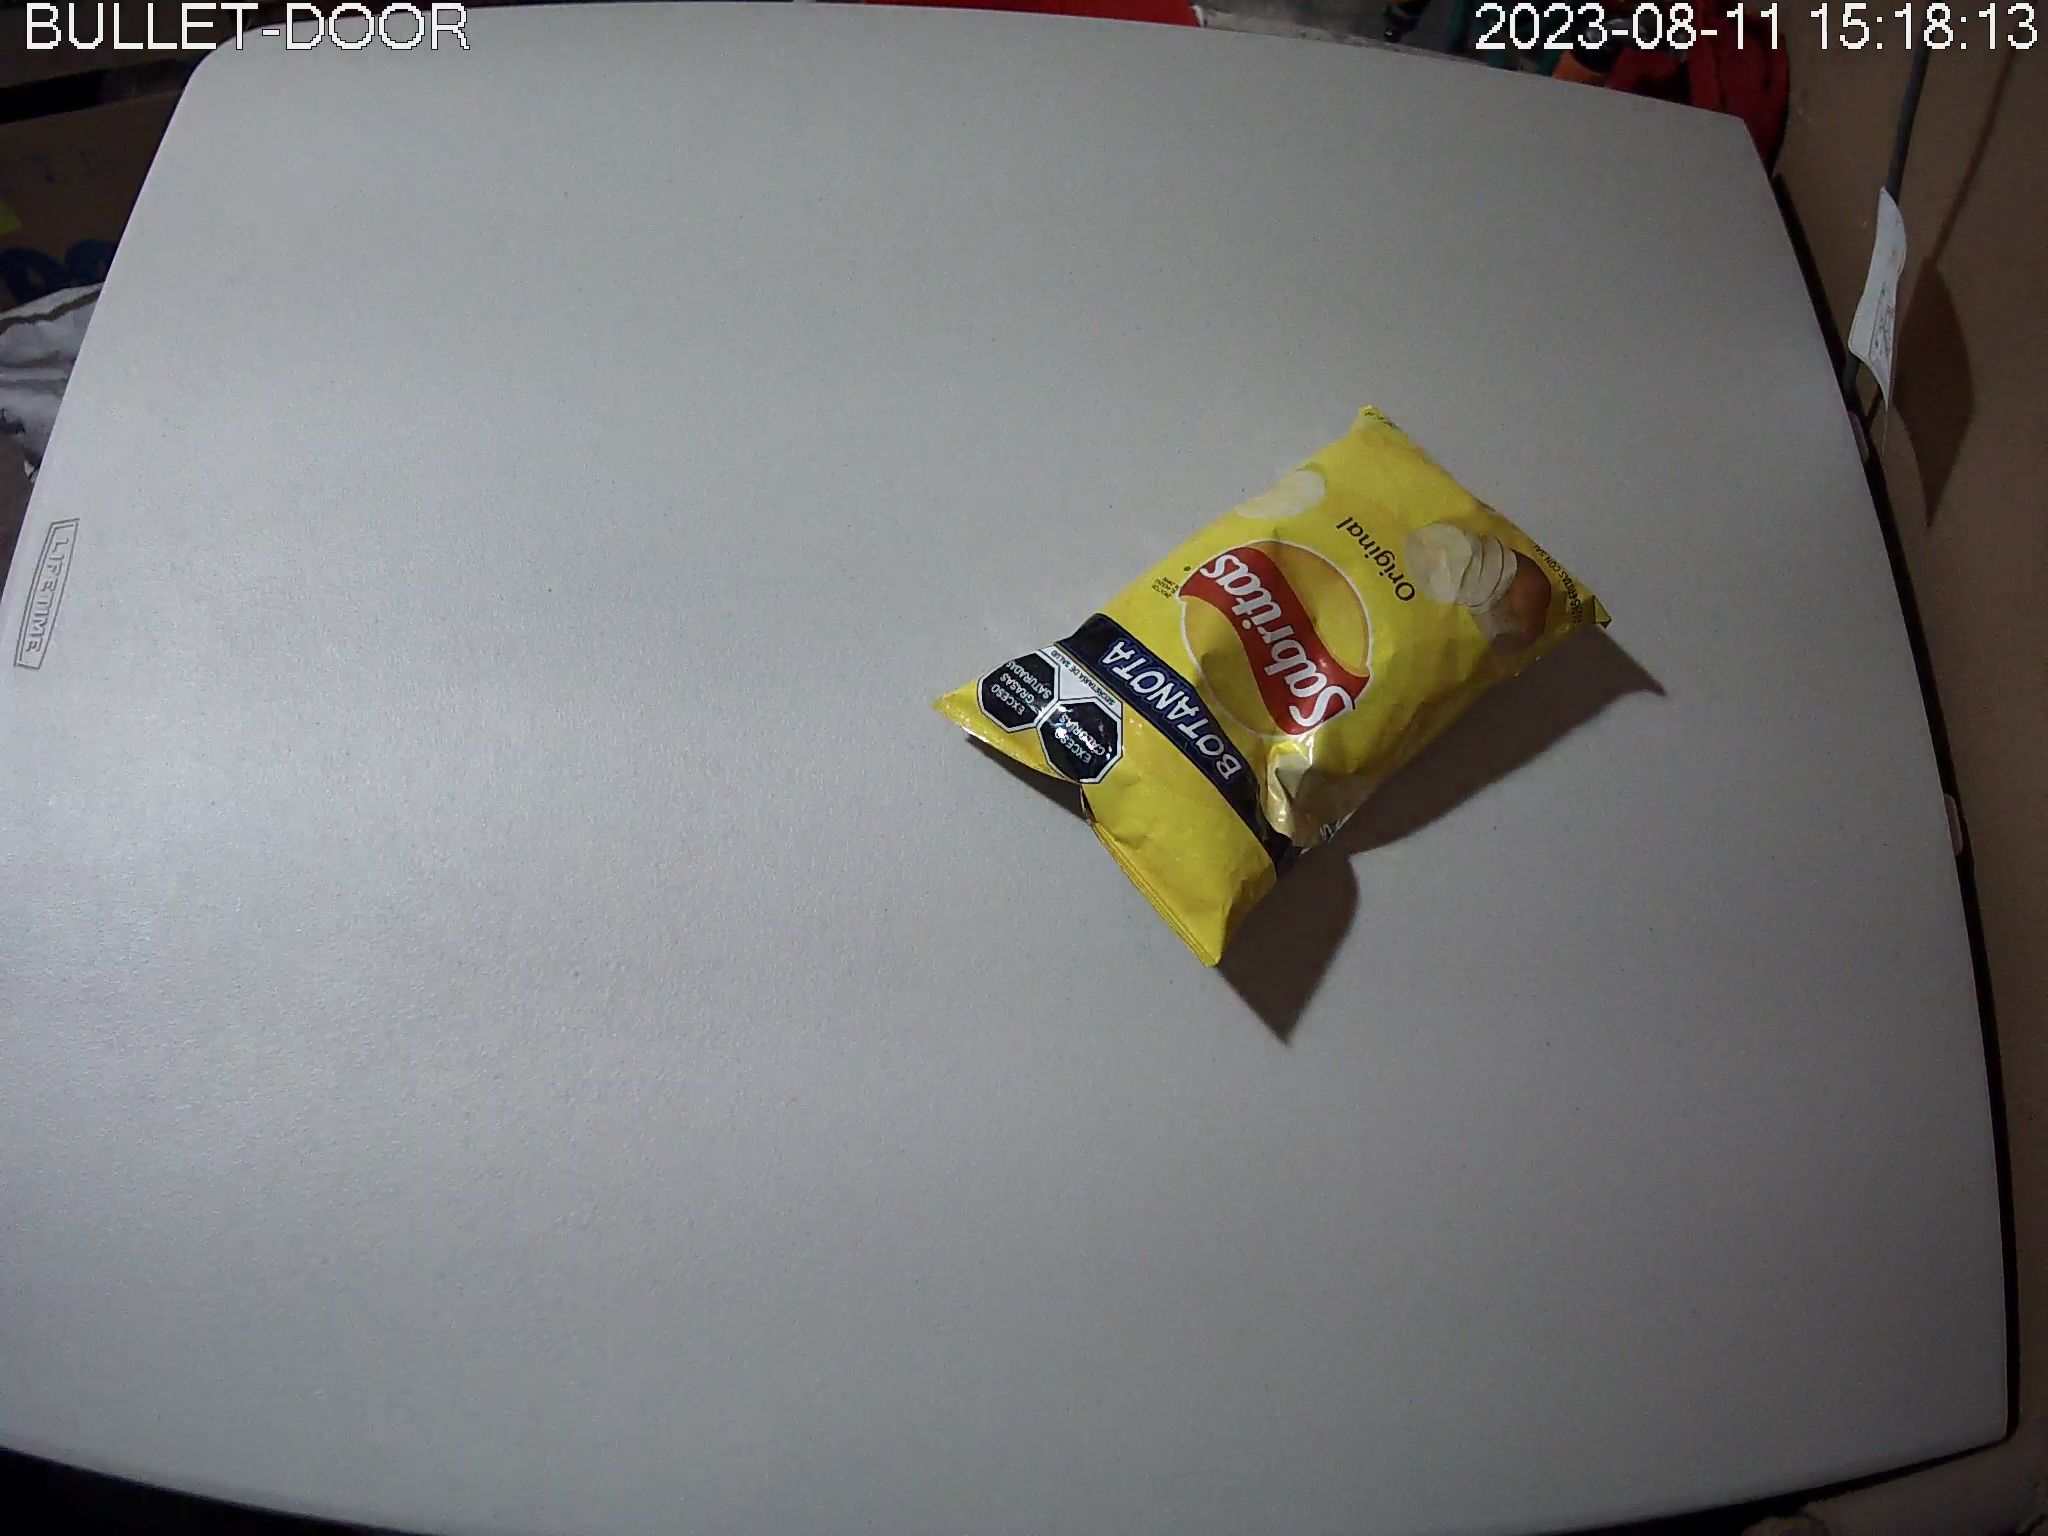Sabritas_64_F: (927, 402, 1613, 970)
